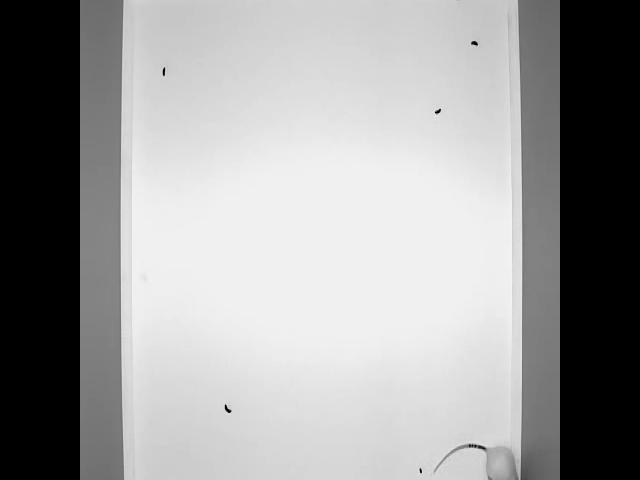Tikus: (430, 423, 526, 480)
